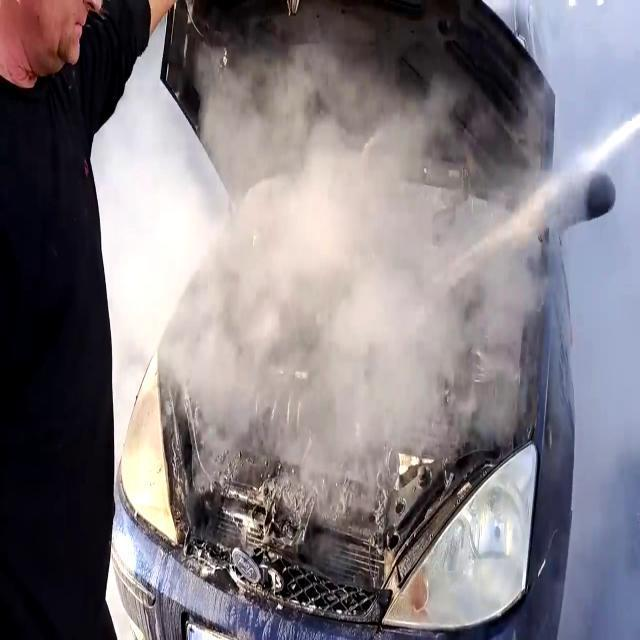Smoke: (162, 0, 548, 543)
